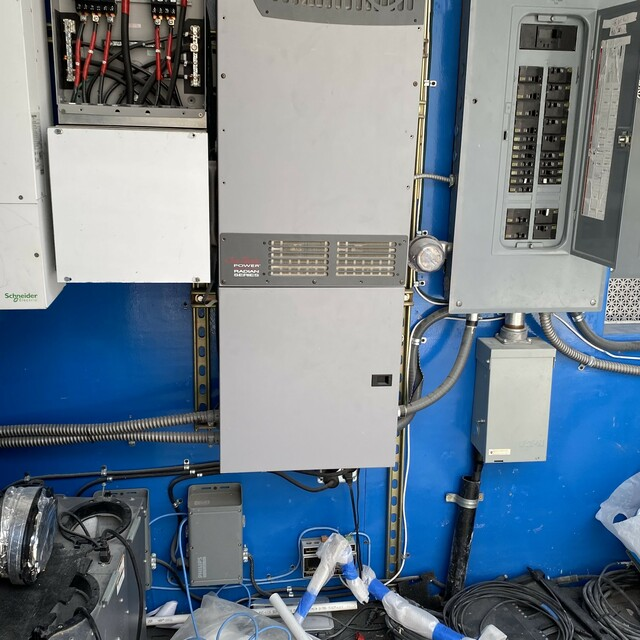inverter: (210, 3, 438, 485)
